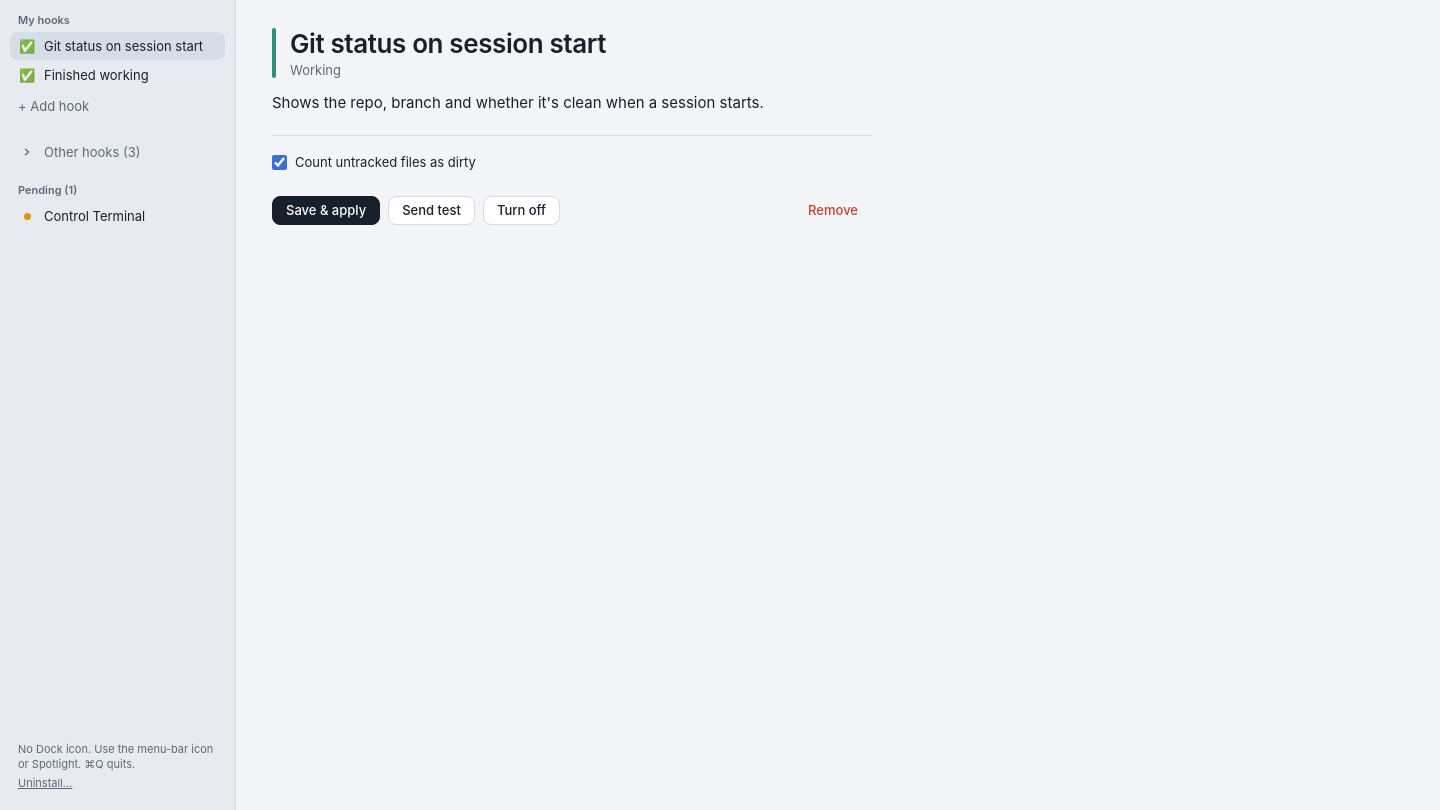
App › remove_confirms_inline
Click the text "Finished working".
click(96, 75)  # box [44,67,149,83]
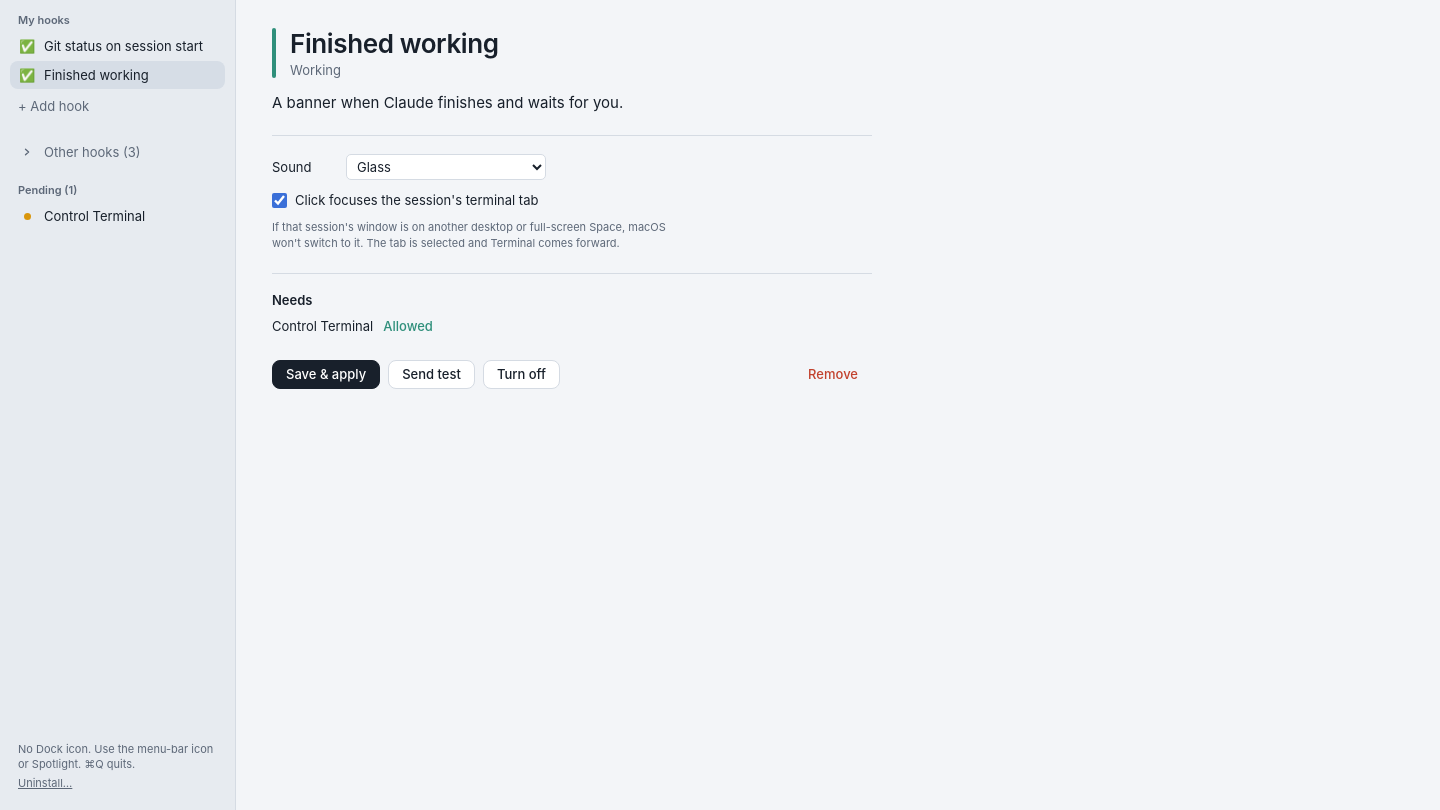
Click the button "Remove".
click(833, 374)  # box [794,360,872,389]
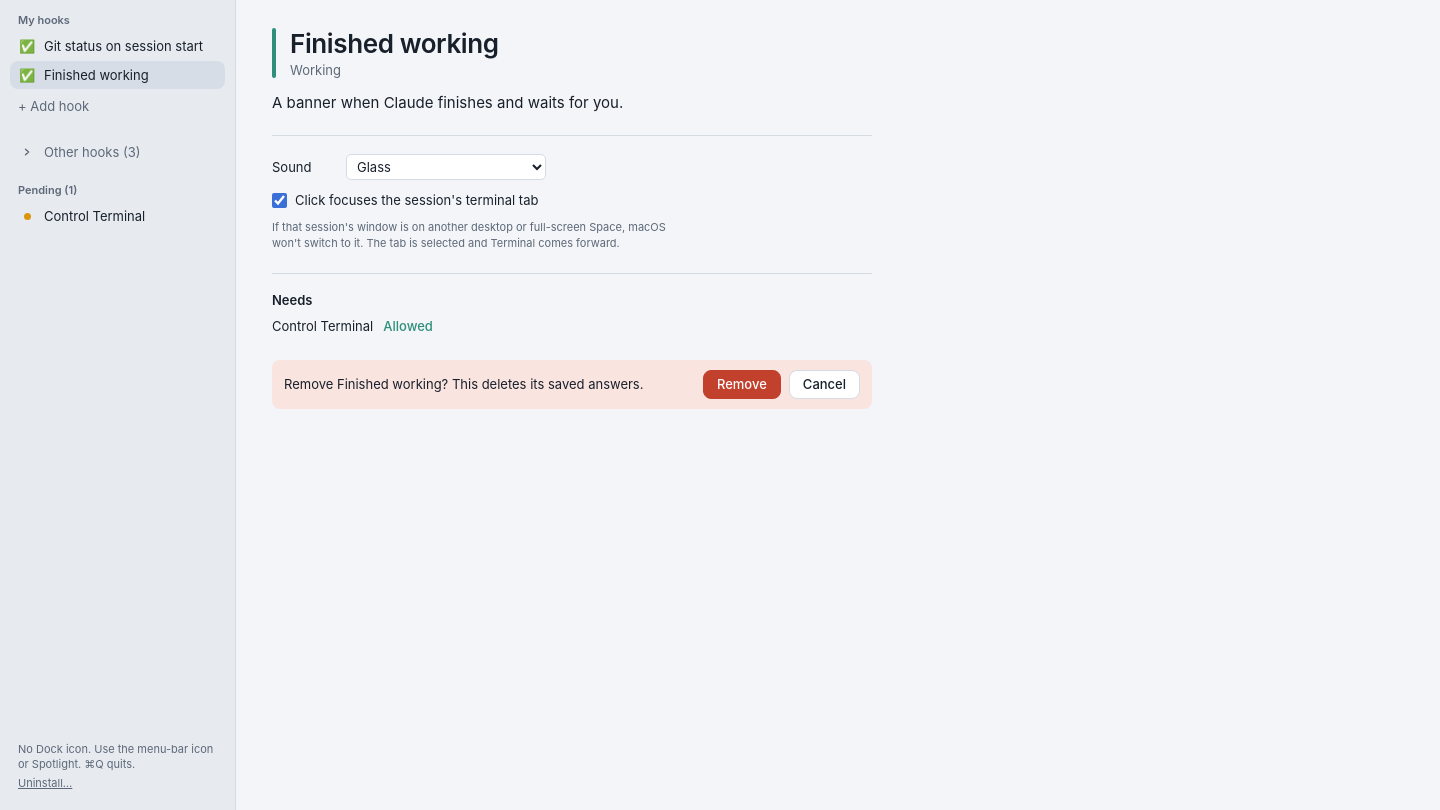
Expected: the text "Remove Finished working? This deletes its saved answers." is shown, [284,376,687,392]
Expected: the button "Cancel" is shown, [789,370,860,399]
Click the button "Remove".
click(742, 384)  # box [703,370,781,399]
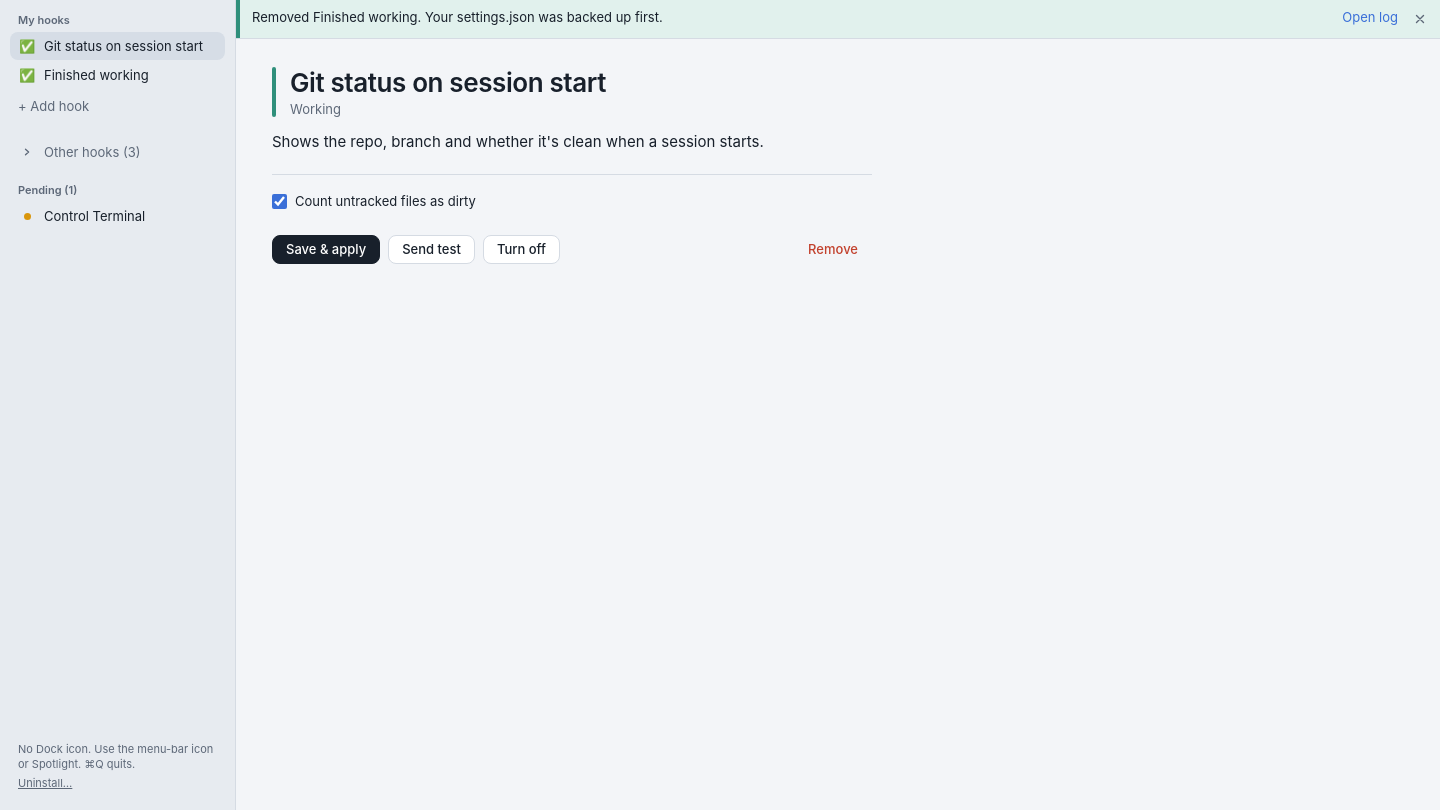
Expected: the text "Removed Finished working. Your settings.json was backed up first." is shown, [252,9,663,25]
